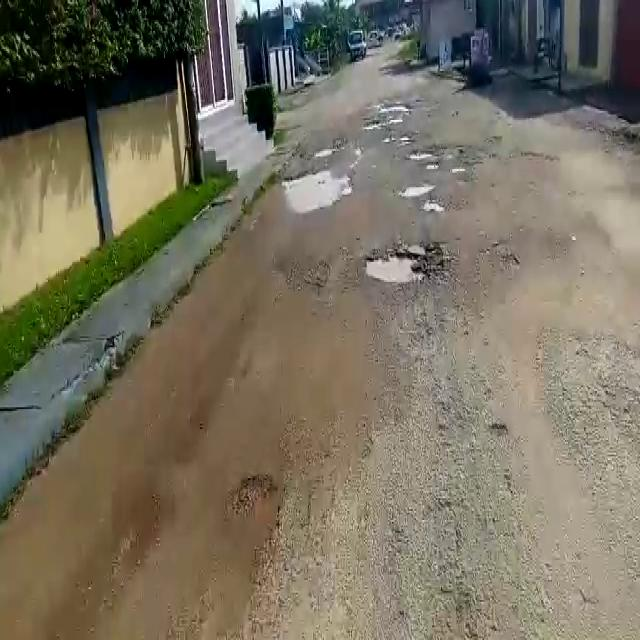Pothole: (275, 166, 351, 212), (362, 242, 438, 284), (235, 474, 283, 540), (408, 148, 446, 162), (402, 186, 433, 203), (419, 201, 445, 215)
